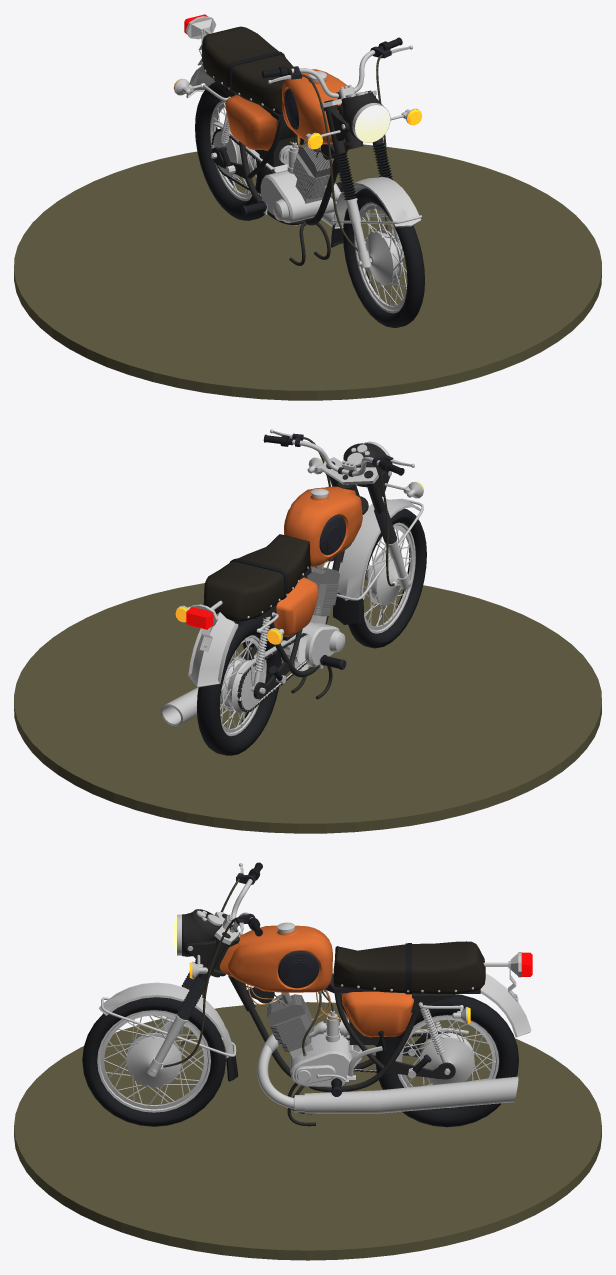
The model's file is motorcycle_model_planeta_sport.glb.
3 views of the same model, one above another, from view 1: azimuth 30°, elevation 25°; view 2: azimuth 150°, elevation 25°; view 3: azimuth 270°, elevation 25° (orthographic).
Parts seen in each view (by area): view 1: Circle.003, Cube.002, Wheel front, Wheel front.003, Cube.001, Cube.003, Wheel front.001, Cylinder.030, Circle, Sphere, Cylinder.017, Cylinder.003 (+10 smaller); view 2: Circle.003, Cube.002, Wheel front.003, Cube.001, Wheel front, Wheel front.001, Wheel front.004, Cube.003, Cylinder.030, Circle, Cylinder.072, Cylinder.027 (+5 smaller); view 3: Circle.003, Cube.002, Wheel front, Cylinder.027, Cube.001, Wheel front.003, Cube.003, Cylinder.002, Circle, Wheel front.001, Cylinder.030, Circle.001 (+14 smaller).
Boxes of the visible parts, <box> form: Circle.003: <box>14,142,601,400</box>; Cube.002: <box>201,26,293,114</box>; Wheel front: <box>343,188,424,327</box>; Wheel front.003: <box>195,82,273,220</box>; Cube.001: <box>282,69,348,144</box>; Cube.003: <box>225,94,299,151</box>; Wheel front.001: <box>333,176,421,228</box>; Cylinder.030: <box>260,170,336,223</box>; Circle: <box>366,229,402,285</box>; Sphere: <box>355,105,390,142</box>; Cylinder.017: <box>334,142,392,200</box>; Cylinder.003: <box>345,198,404,268</box>; Circle.003: <box>14,580,601,833</box>; Cube.002: <box>203,534,310,622</box>; Wheel front.003: <box>196,618,281,755</box>; Cube.001: <box>284,486,362,567</box>; Wheel front: <box>348,508,426,648</box>; Wheel front.001: <box>337,499,420,600</box>; Wheel front.004: <box>188,612,238,687</box>; Cube.003: <box>273,577,318,636</box>; Cylinder.030: <box>281,622,340,667</box>; Circle: <box>367,550,403,605</box>; Cylinder.072: <box>227,660,263,712</box>; Cylinder.027: <box>160,653,282,726</box>; Circle.003: <box>14,1002,601,1260</box>; Cube.002: <box>333,941,485,993</box>; Wheel front: <box>82,997,225,1126</box>; Cylinder.027: <box>293,1076,518,1113</box>; Cube.001: <box>219,925,332,992</box>; Wheel front.003: <box>375,994,518,1127</box>; Cube.003: <box>342,991,413,1037</box>; Cylinder.002: <box>97,1010,210,1112</box>; Circle: <box>126,1033,181,1087</box>; Wheel front.001: <box>99,982,233,1057</box>; Cylinder.030: <box>290,1030,353,1087</box>; Circle.001: <box>420,1037,474,1084</box>.
Size of the model in its own units: 2.68 by 1.22 by 2.68.
